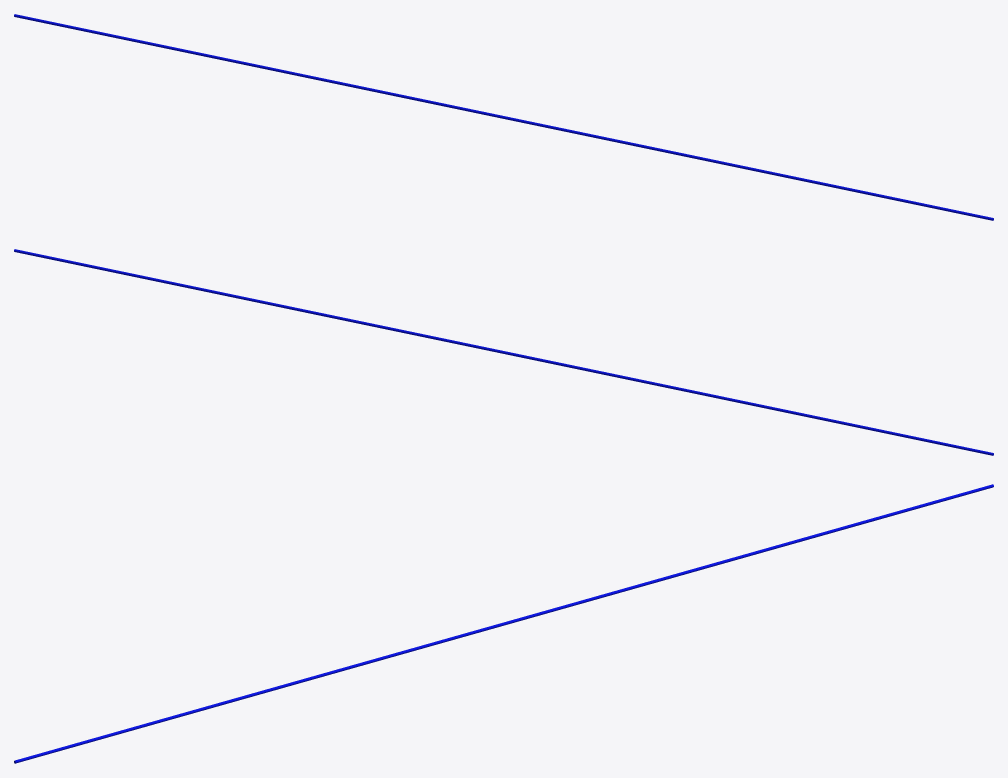
The picture shows the model from 3 angles, top to bottom: view 1: azimuth 30°, elevation 25°; view 2: azimuth 210°, elevation 25°; view 3: azimuth 270°, elevation 25°; orthographic projection. The views are drawn at different scales.
Parts seen in each view (by area): view 1: Цилиндр; view 2: Цилиндр; view 3: Цилиндр.
Boxes of the visible parts, x1,y1,x2,y2 form: Цилиндр: [14, 14, 993, 220]; Цилиндр: [14, 249, 993, 455]; Цилиндр: [14, 484, 993, 763].
Size of the model in its own units: 2.08 by 0.01 by 3.11.
